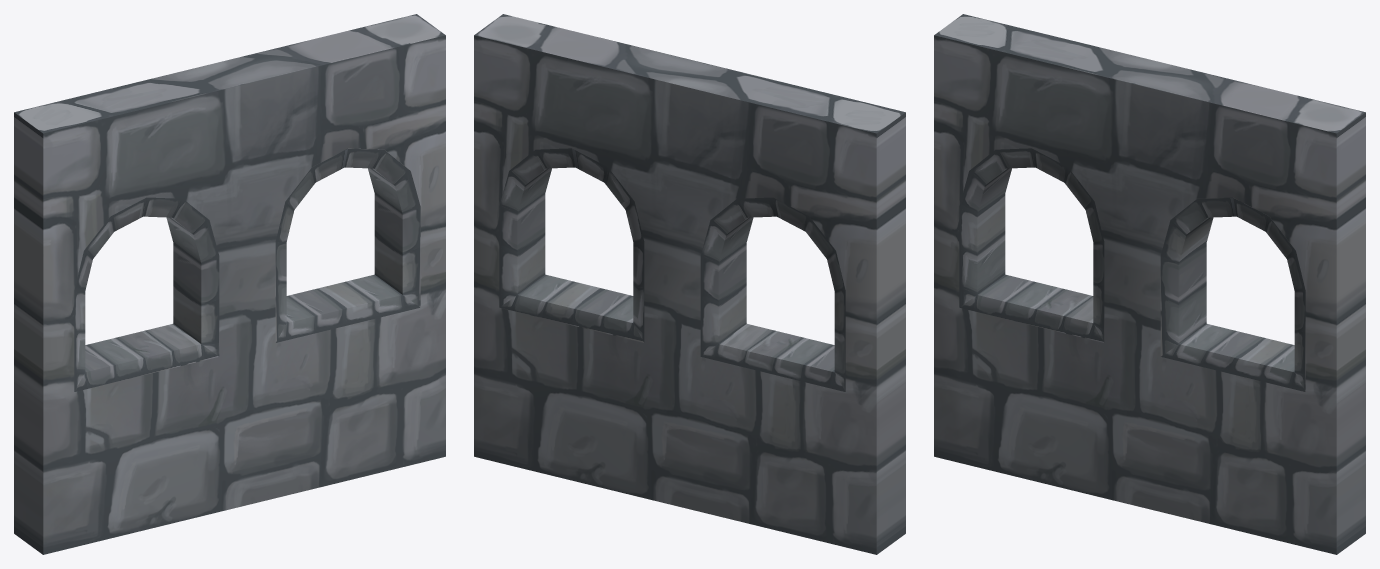
Rendered from Windows.001.fbx.
3 views of the same model, side by side, from view 1: azimuth 30°, elevation 25°; view 2: azimuth 150°, elevation 25°; view 3: azimuth 330°, elevation 25° (orthographic).
Visible parts, largest first — view 1: Windows.001; view 2: Windows.001; view 3: Windows.001.
Boxes of the visible parts, x1=… form: Windows.001: x1=14, y1=14, x2=445, y2=554; Windows.001: x1=474, y1=14, x2=905, y2=554; Windows.001: x1=934, y1=14, x2=1365, y2=554.
Size of the model in its own units: 400 by 400 by 60.
